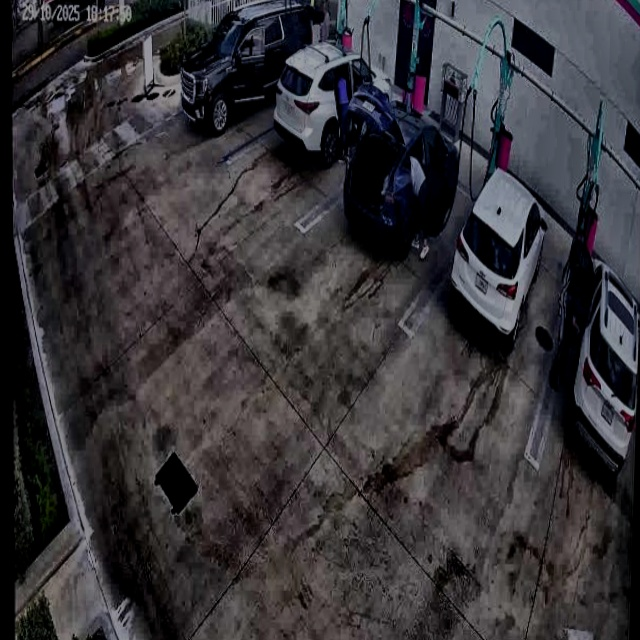Car: (343, 89, 462, 256), (450, 169, 547, 347), (275, 37, 394, 165)
